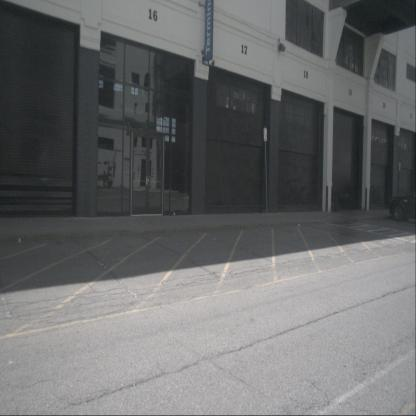vehicle-car: (388, 187, 416, 223)
